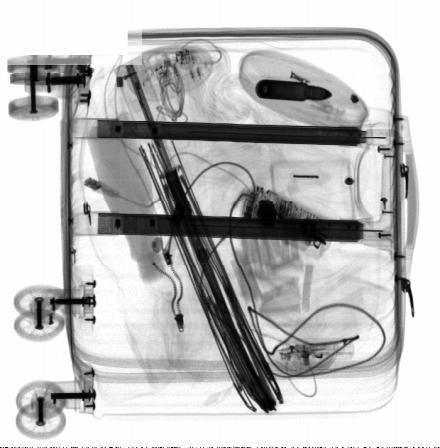Bullet: (255, 80, 333, 101)
